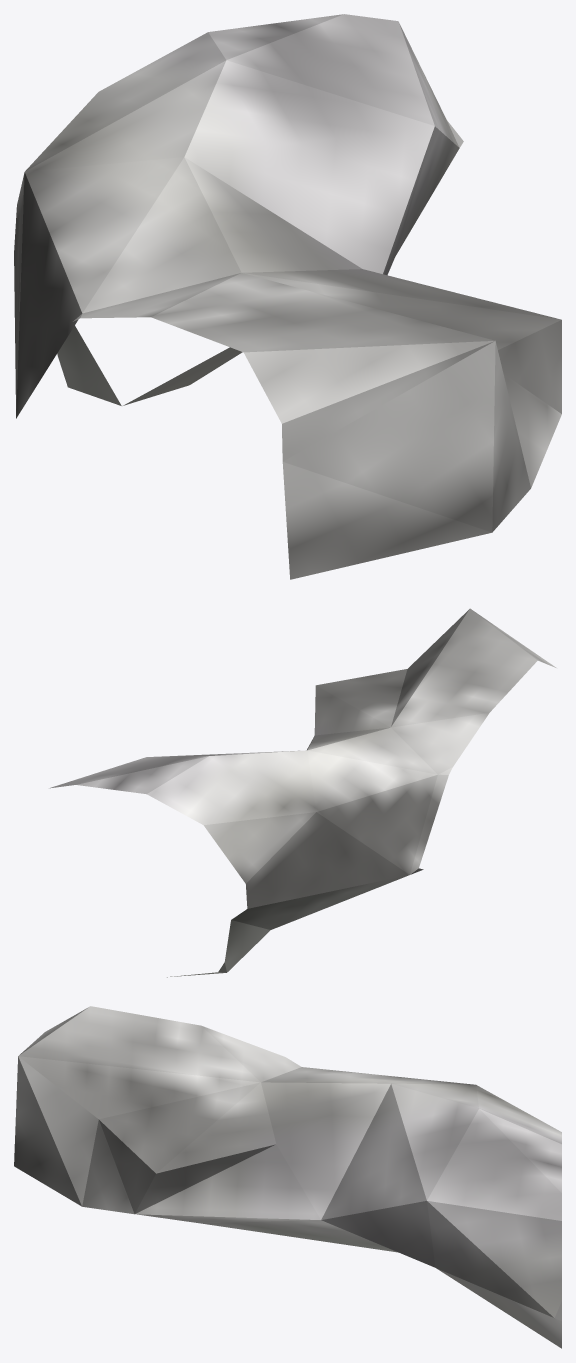
3 renders of one model, top to bottom at view 1: azimuth 30°, elevation 25°; view 2: azimuth 150°, elevation 25°; view 3: azimuth 270°, elevation 25°, orthographic. The views are drawn at different scales.
Size of the model in its own units: 0.0559 by 0.036 by 0.0723.
1 material, 1 textured.
